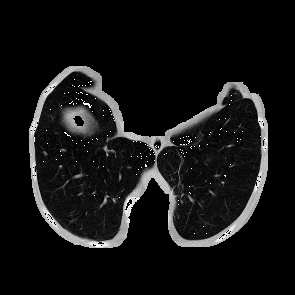PN: (43, 151, 47, 155)
